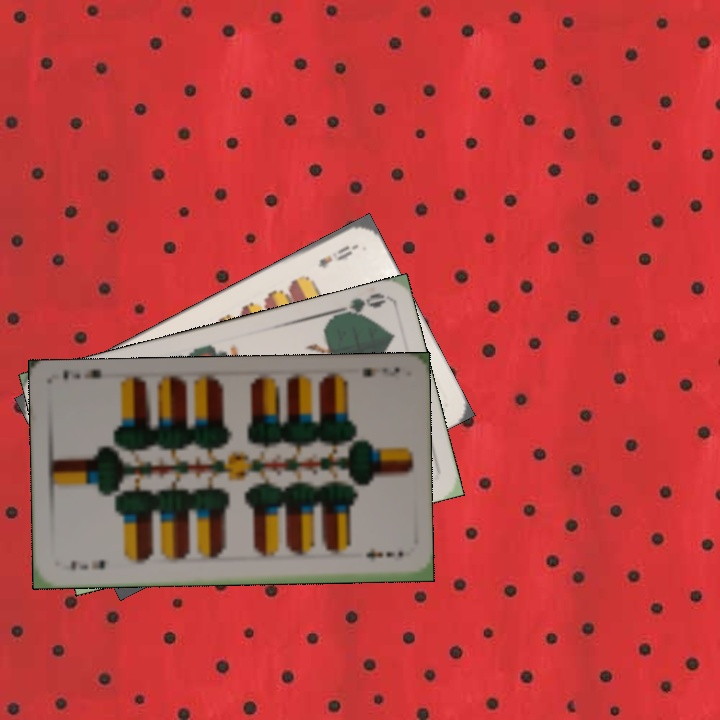E7: (358, 363, 403, 379), (66, 556, 108, 573)
E9: (314, 241, 358, 271)
GO: (328, 289, 387, 322)
